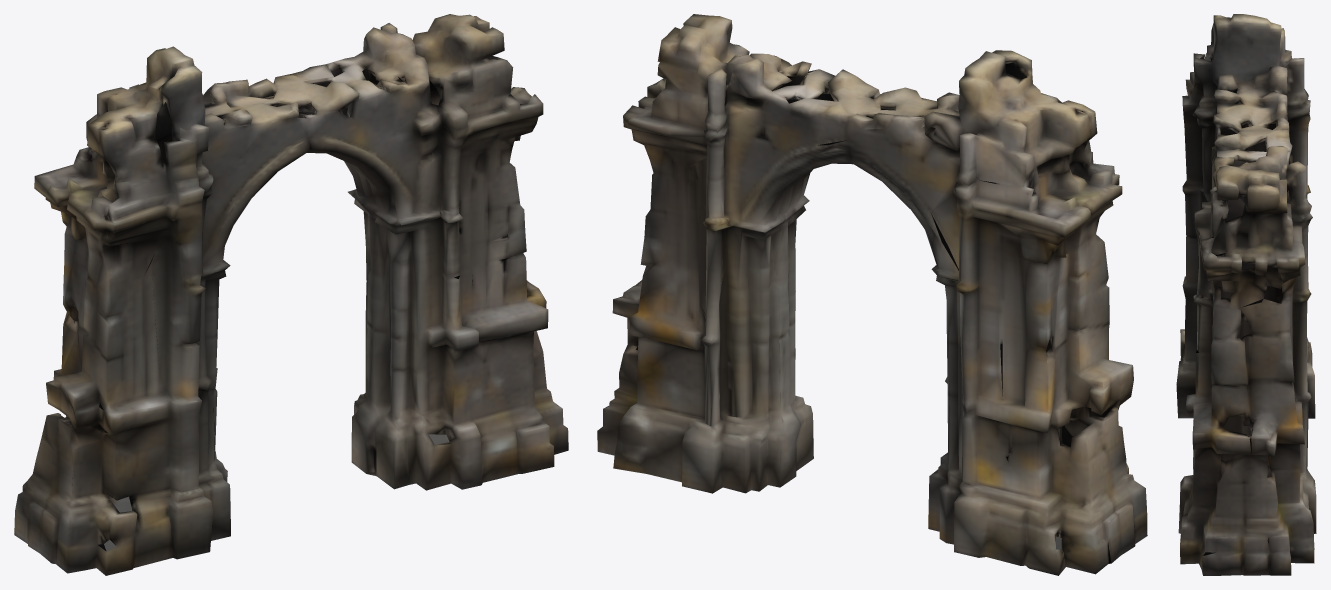
Rendered from ruin_arch.glb.
3 views of the same model, side by side, from view 1: azimuth 30°, elevation 25°; view 2: azimuth 150°, elevation 25°; view 3: azimuth 270°, elevation 25° (orthographic). The views are drawn at different scales.
Parts seen in each view (by area): view 1: MV_ruin_arch; view 2: MV_ruin_arch; view 3: MV_ruin_arch.
Boxes of the visible parts, bbox=[...] form: MV_ruin_arch: bbox=[14, 14, 568, 575]; MV_ruin_arch: bbox=[597, 14, 1147, 575]; MV_ruin_arch: bbox=[1176, 14, 1316, 575].
Bounding box in the file's own units: 4.53 × 4 × 1.26.
Materials: 1 (1 with a texture image).
